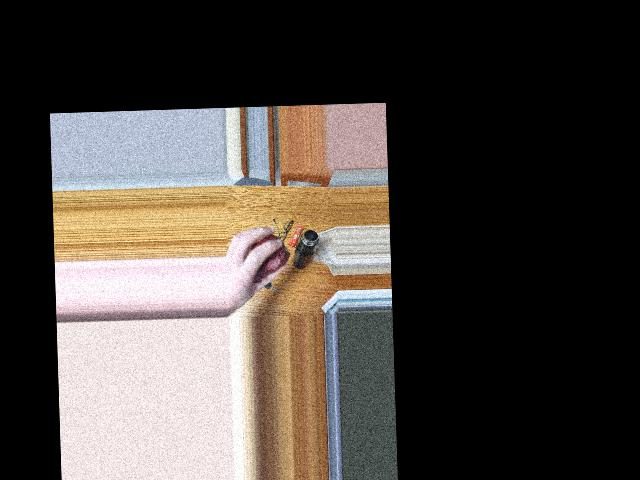onion: (251, 232, 286, 272)
